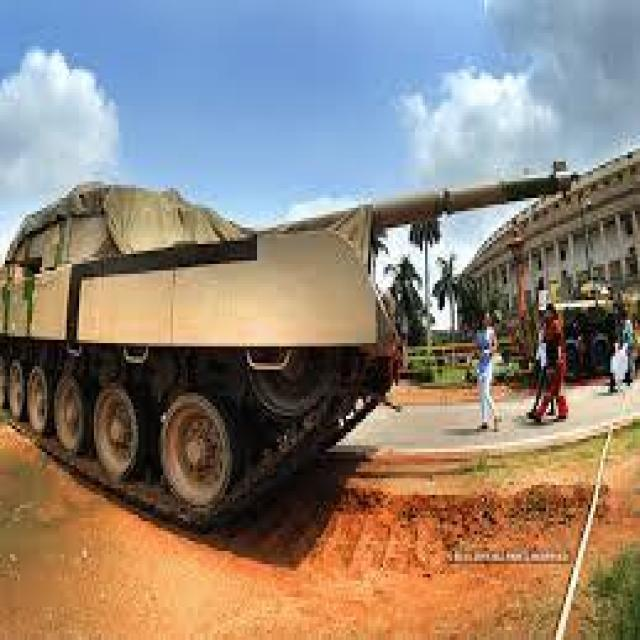Tanks: (5, 186, 422, 540)
